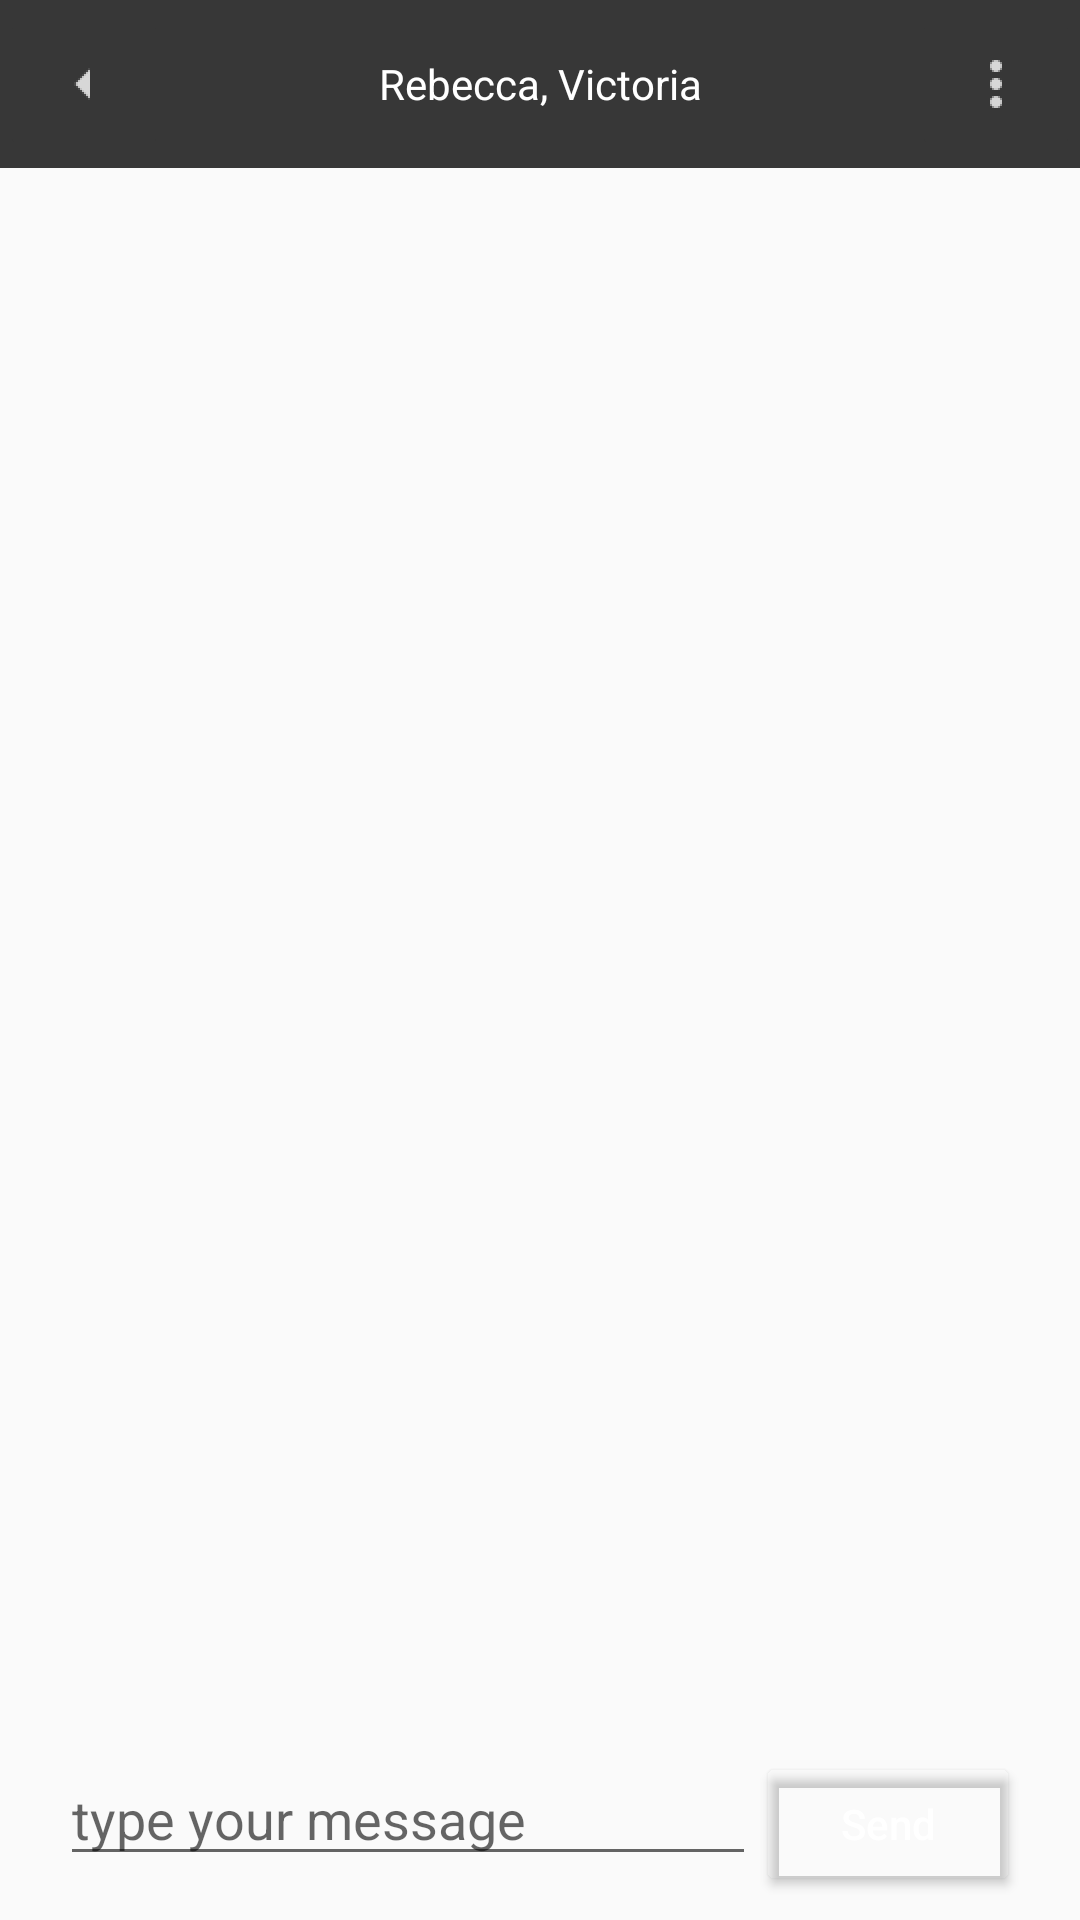

Icons on this 1080*1920 Android screen, each with the point to tap as (x=x, y=y):
left: (x=83, y=84)
menu: (x=996, y=84)
